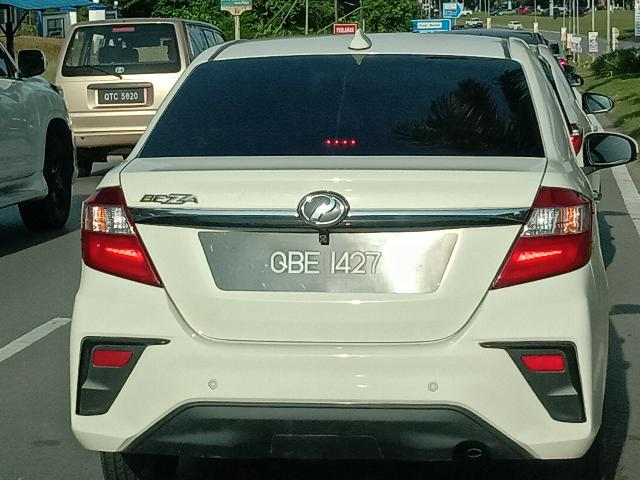License_Plate: (201, 233, 459, 295), (99, 90, 147, 106)
car: (52, 25, 628, 480), (43, 22, 232, 157)
